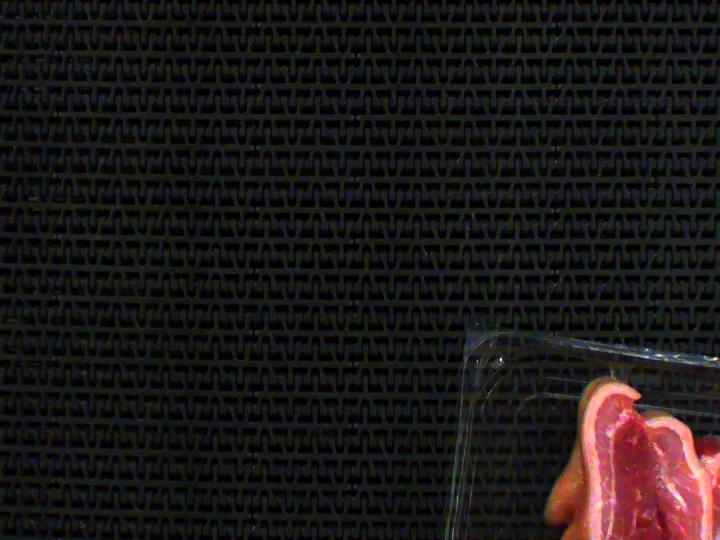packaging-error: (604, 353, 637, 384)
